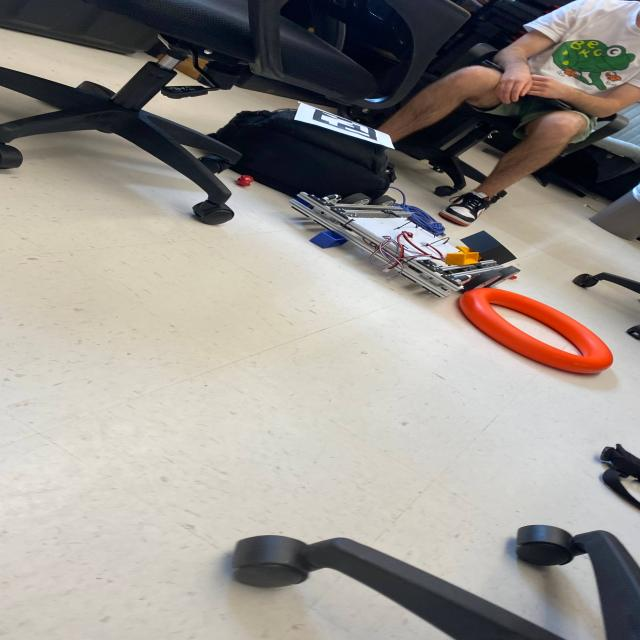blue-specimen: (310, 230, 348, 249)
yellow-specimen: (445, 246, 481, 266)
